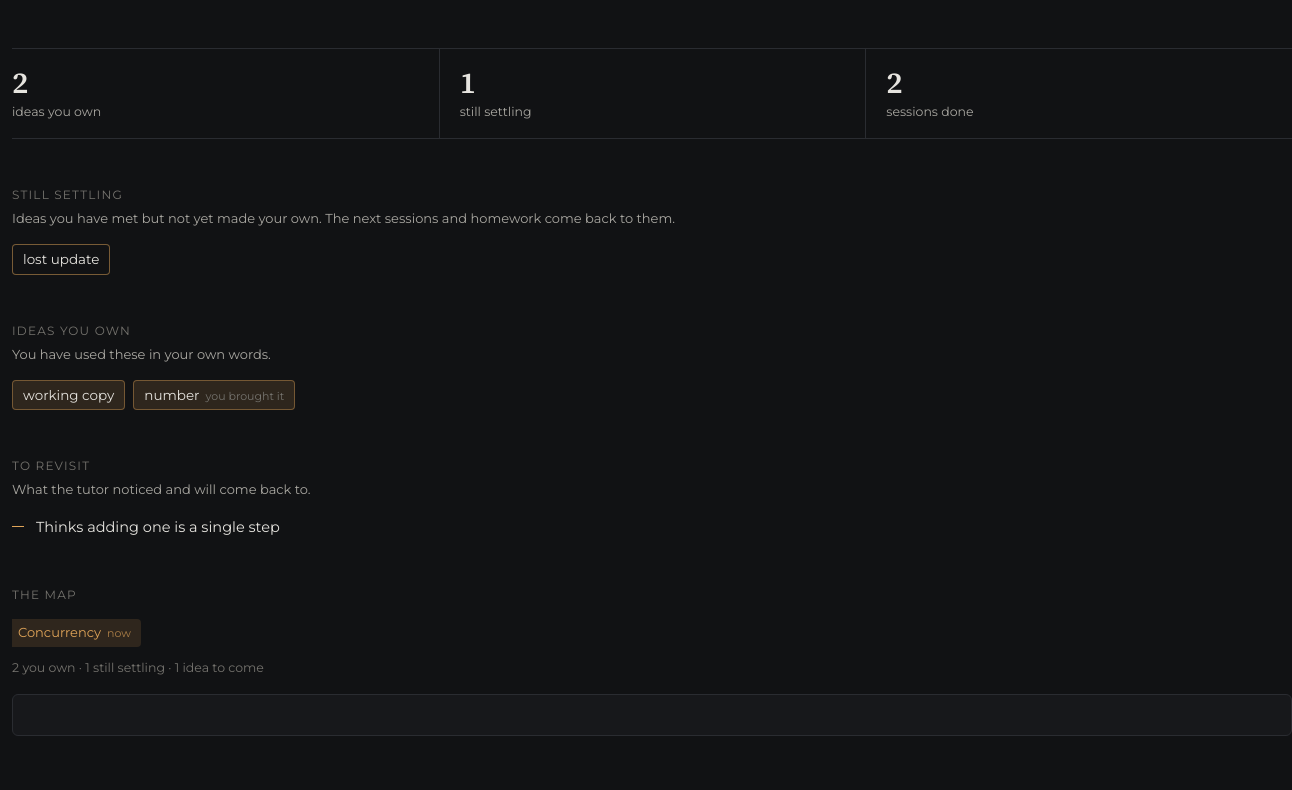
Test: a track's progress (design §8) › opens an idea in plain words: the words that showed it and where it happened
Click the button "lost update" at (61, 259), box [12,244,110,275]
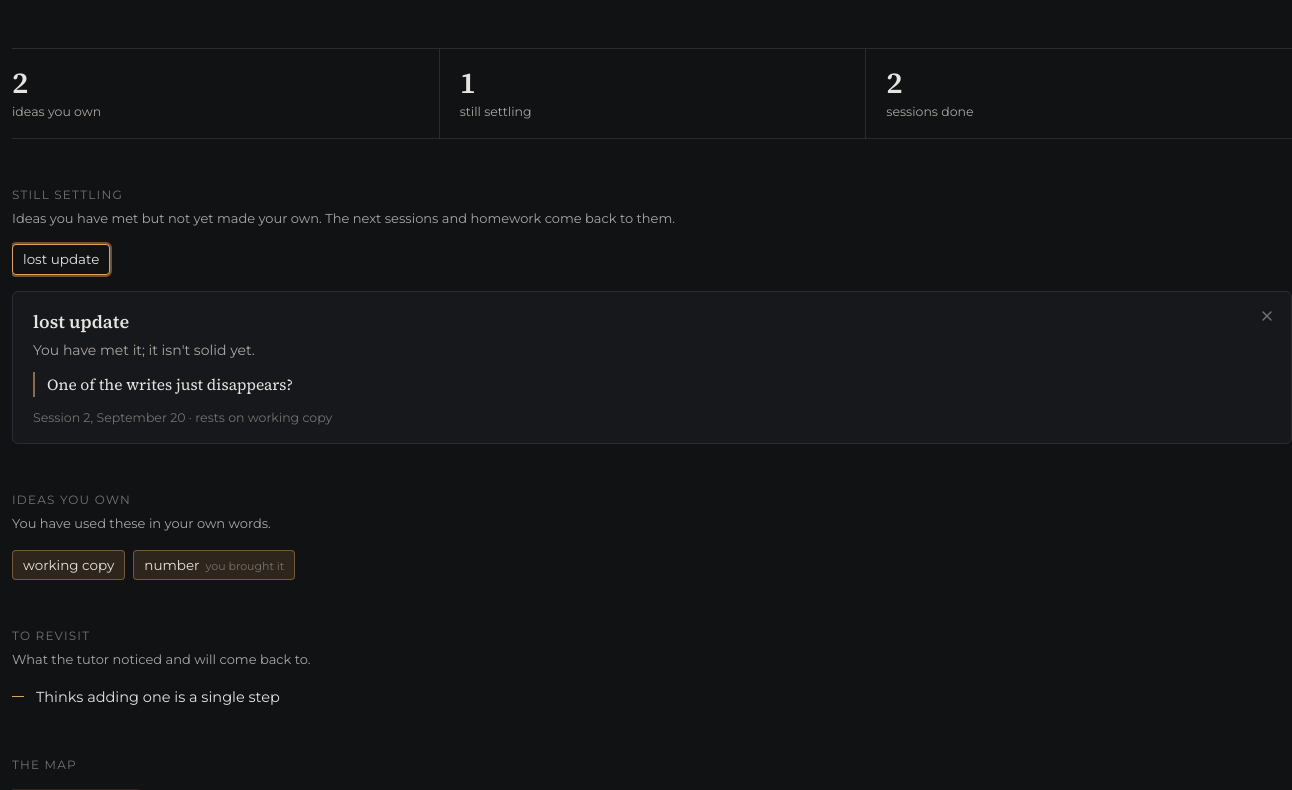
Check: the text "You have met it; it isn't solid yet." is shown, box [33,340,255,358]
Check: the text "One of the writes just disappears?" is shown, box [33,372,1271,397]
Check: the text "Session 2 , September 20 · rests on working copy" is shown, box [33,410,332,425]
Click the button "number" at (214, 565), box [133,550,295,580]
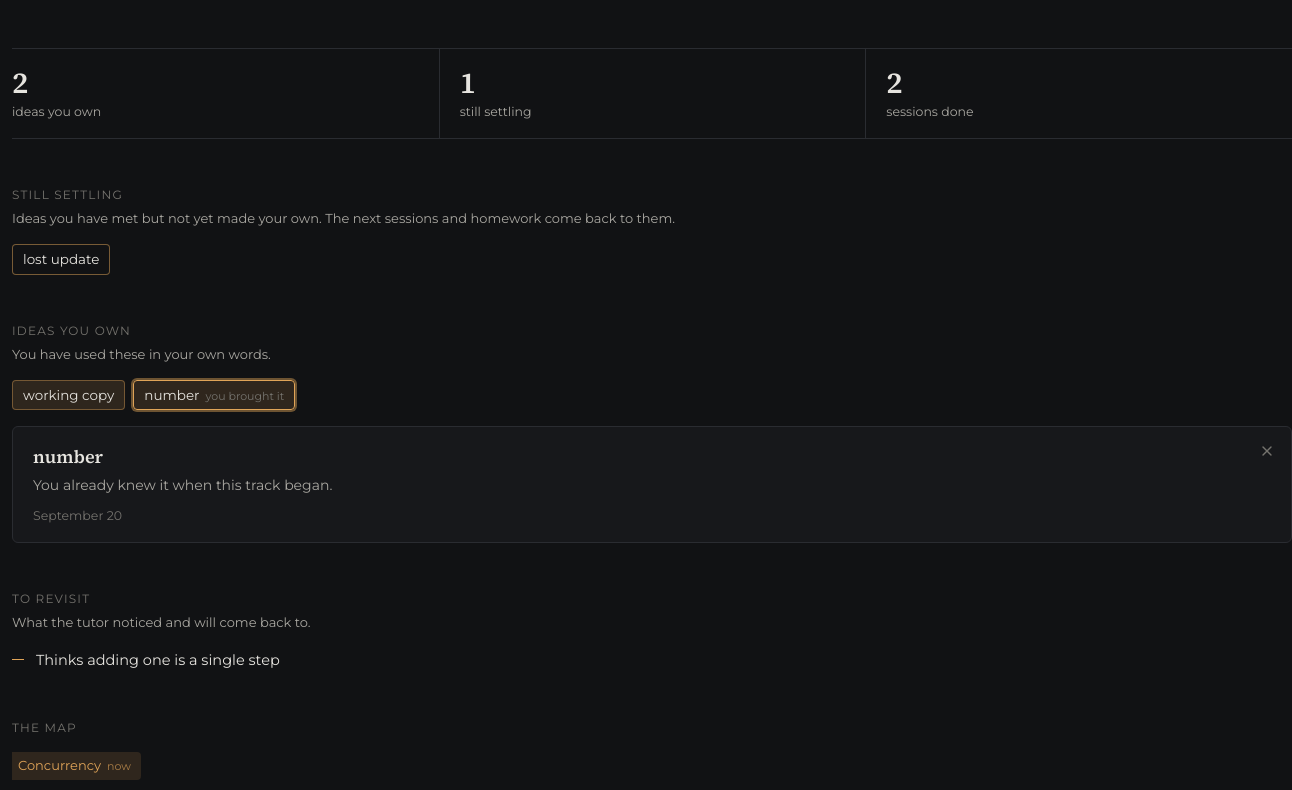
Check: the text "You already knew it when this track began." is shown, box [33,476,332,494]
